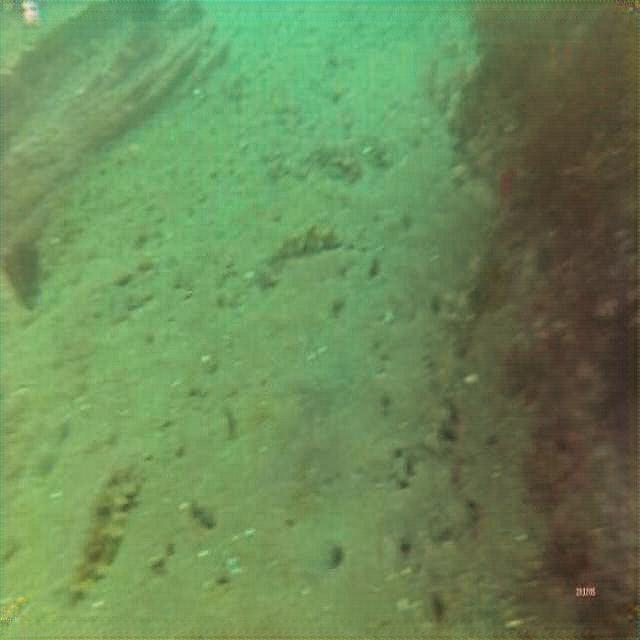holothurian: (73, 462, 142, 612)
